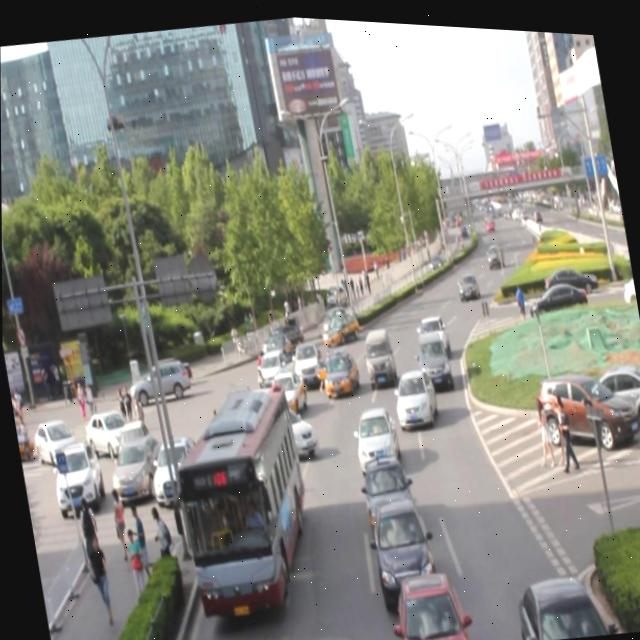car: (366, 490, 437, 595), (514, 561, 605, 640), (389, 559, 467, 640), (359, 446, 416, 532), (258, 387, 319, 462), (351, 397, 399, 466), (388, 358, 437, 424), (265, 358, 314, 413), (228, 376, 271, 436), (319, 334, 364, 390), (287, 328, 328, 385), (414, 323, 451, 383), (321, 294, 365, 340), (252, 342, 291, 392), (413, 304, 449, 352)
truck: (361, 321, 397, 381)
van: (166, 381, 315, 608)
